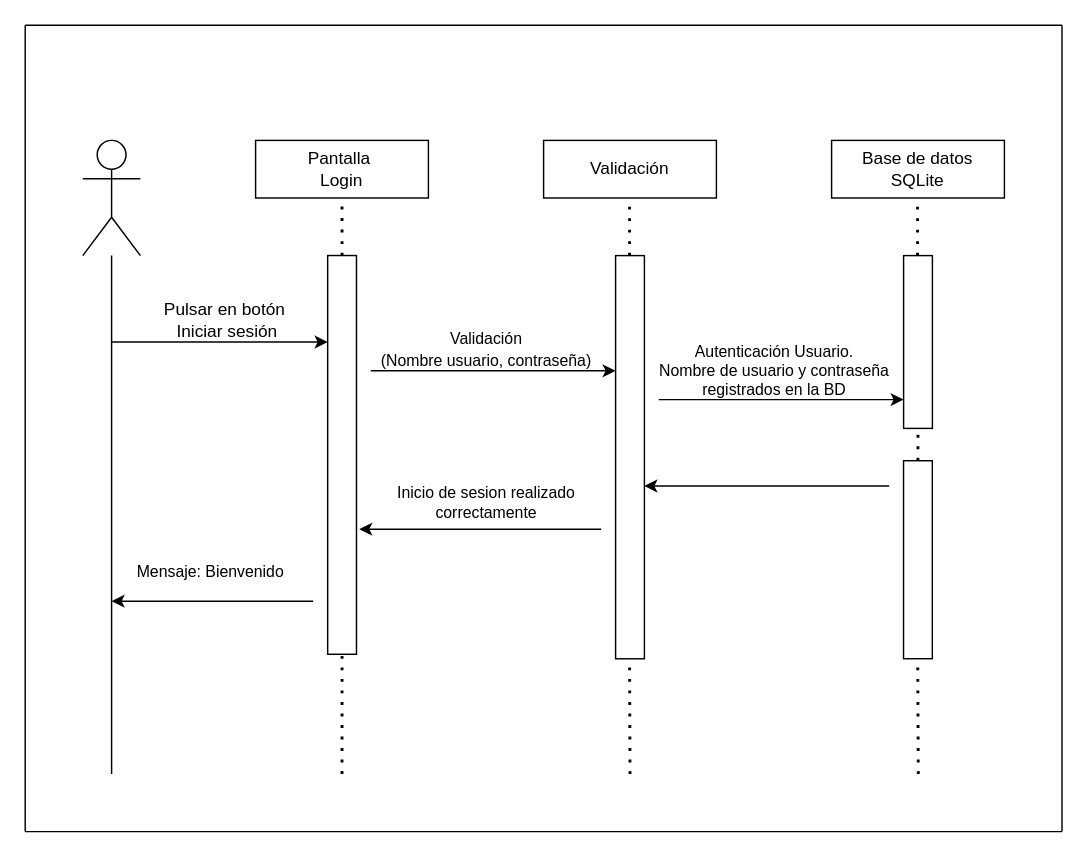
Image size: 1089x858. Some labels were removed from this diagram. The shapes that lost their labels are listed below. From the top down, each one's centre as x and y in pixels, then its label:
pixel 110 197: Usuario
pixel 629 456: Main Activity(Catálogo)
